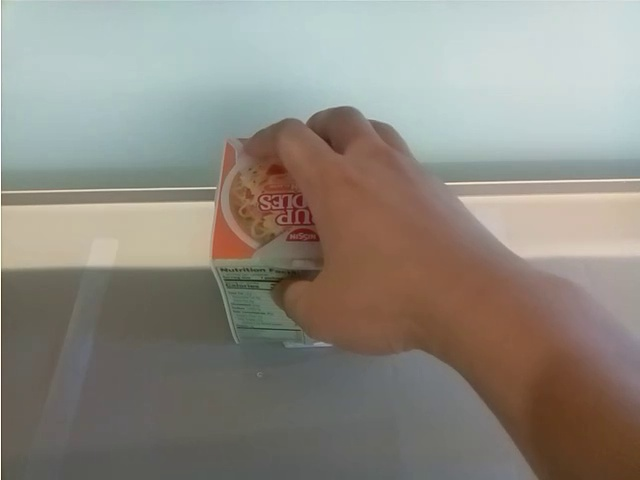hand: (245, 105, 482, 362)
noodles: (212, 137, 308, 347)
